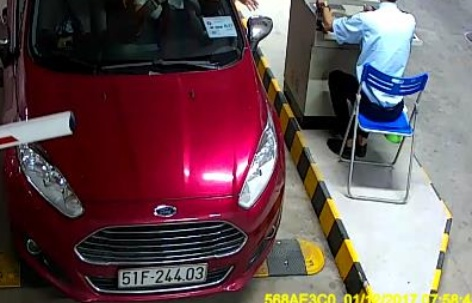plate: (117, 264, 208, 291)
